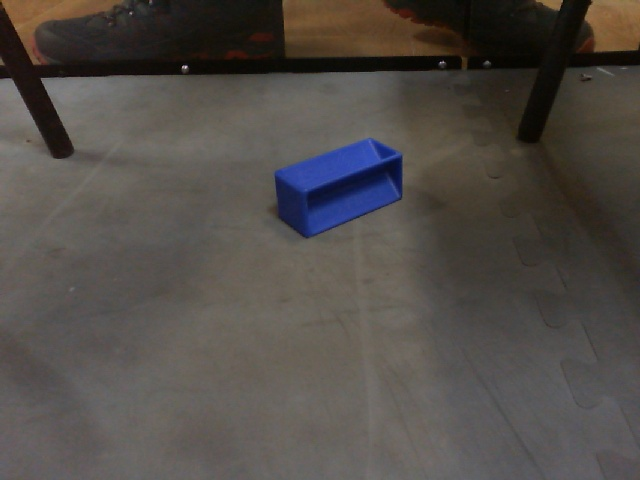BlueSample: (271, 134, 409, 246)
